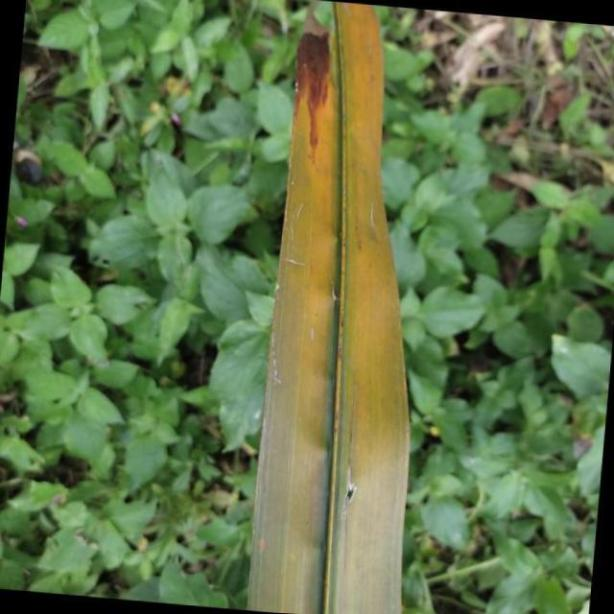Megnesium: (250, 0, 412, 614)
